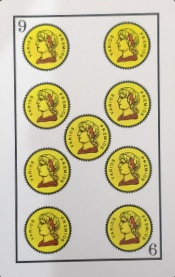9o: (11, 11, 162, 35)
